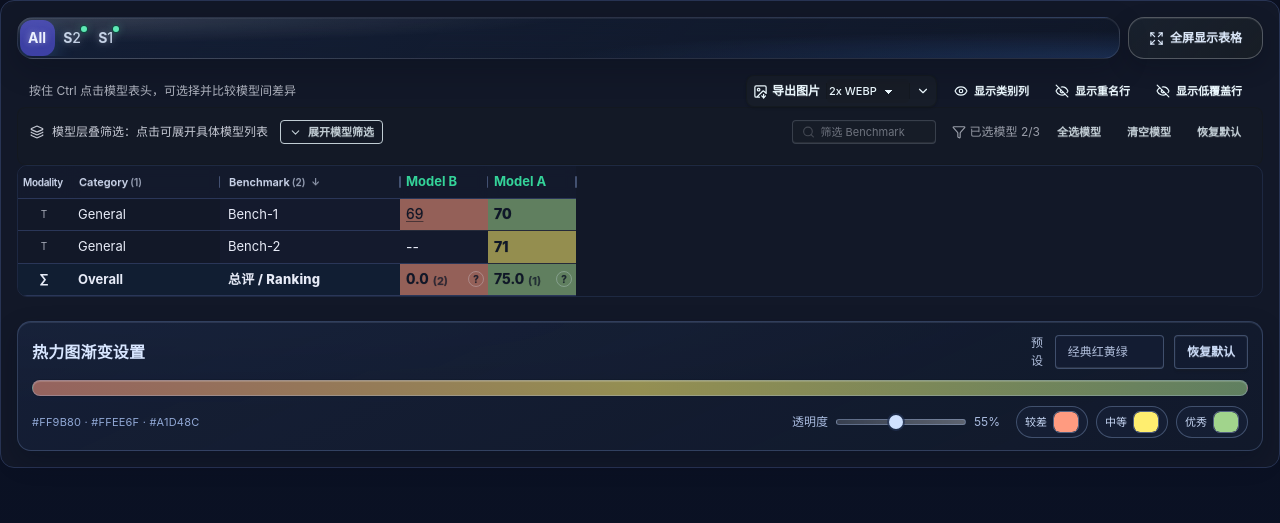
Scenario: BenchmarkMatrix 跨页签模型覆盖 › 点击模型列后按展示行重算模型筛选覆盖率
The width and height of the screenshot is (1280, 523).
Click the button "展开模型筛选" at (332, 132), box [280,120,383,144]
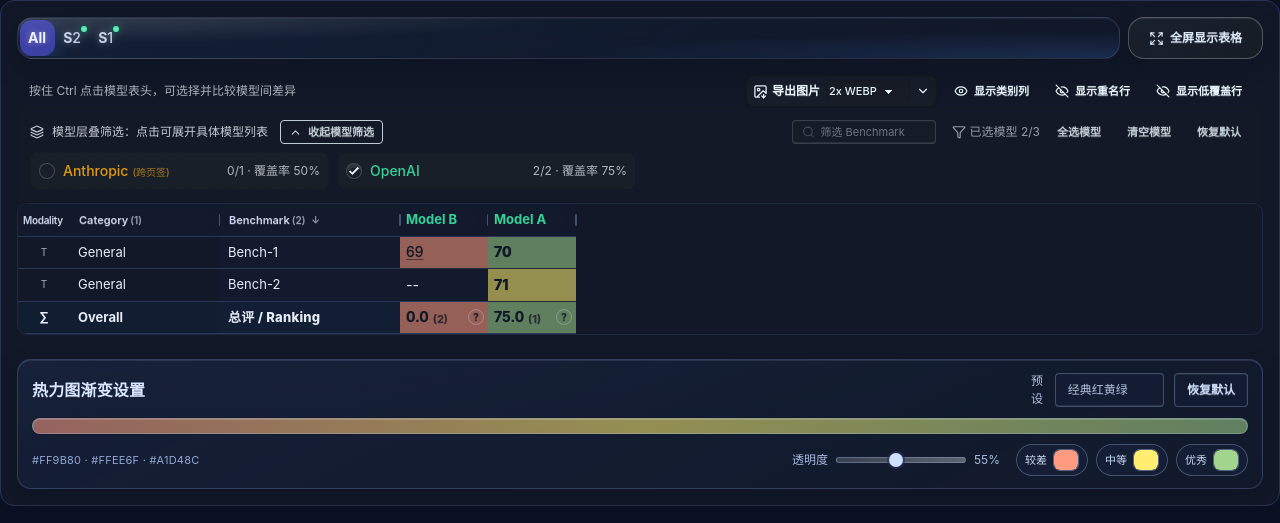
Click the column heading "Model B" at (444, 220), box [400,204,488,236]
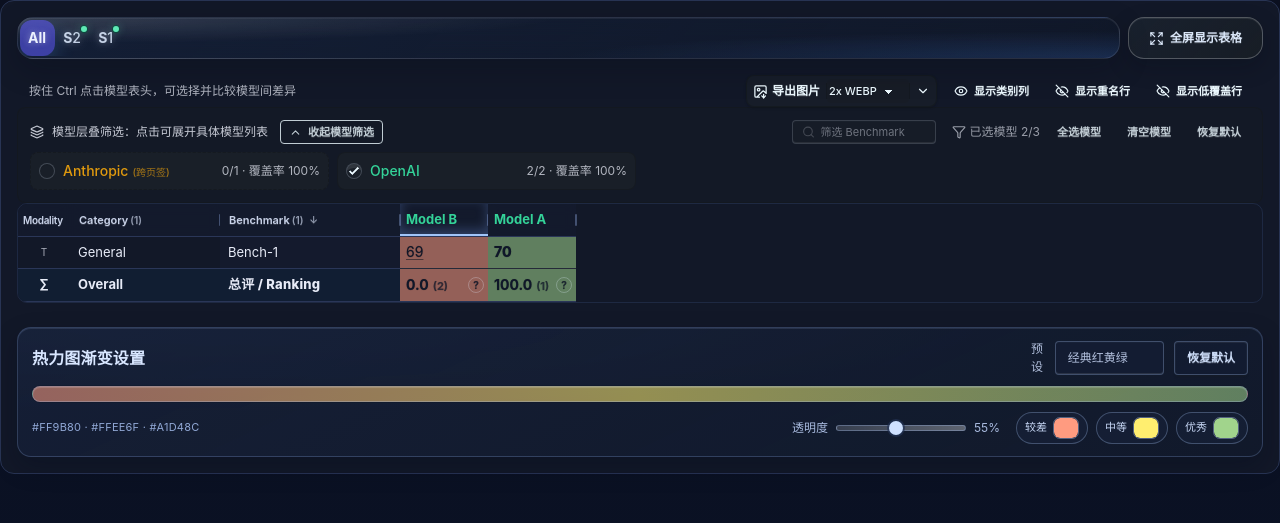
Result: the text "Bench-2" is gone
